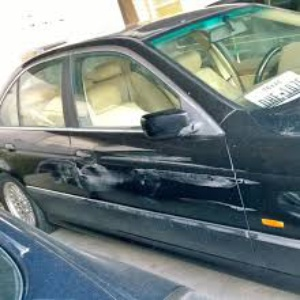door_scratch: (33, 148, 257, 220)
